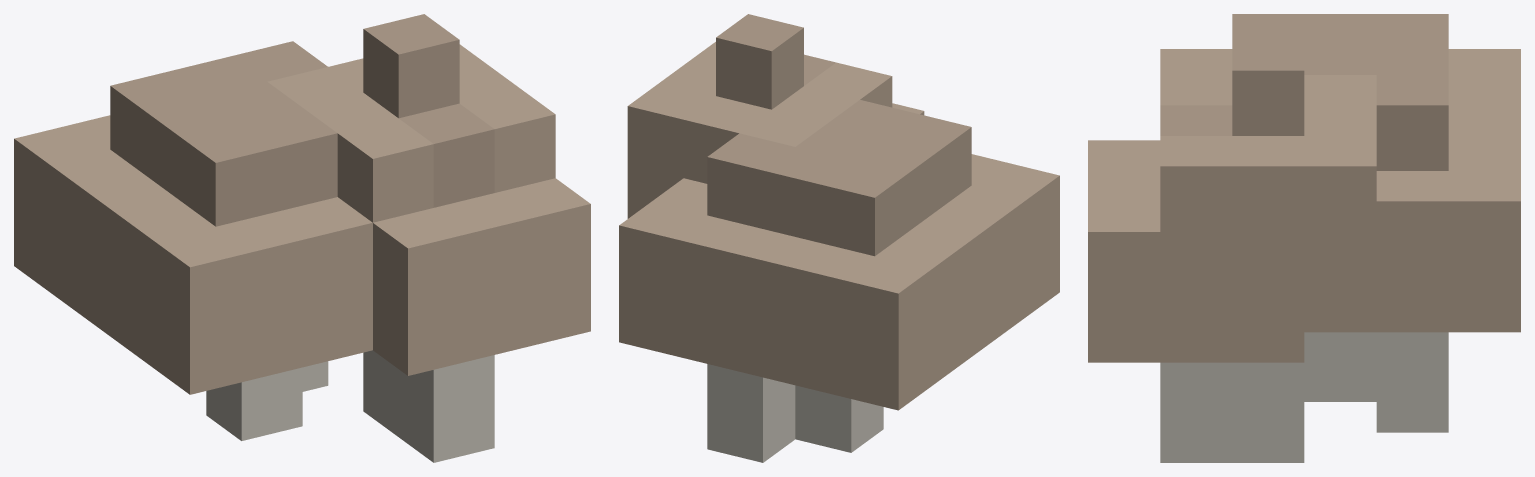
File: corro_de_setas_02.glb
3 renders of one model, left to right at view 1: azimuth 30°, elevation 25°; view 2: azimuth 150°, elevation 25°; view 3: azimuth 270°, elevation 25°, orthographic. The views are drawn at different scales.
Parts seen in each view (by area): view 1: corro_de_setas_02; view 2: corro_de_setas_02; view 3: corro_de_setas_02.
Boxes of the visible parts, bbox=[...] form: corro_de_setas_02: bbox=[14, 14, 590, 462]; corro_de_setas_02: bbox=[619, 14, 1059, 462]; corro_de_setas_02: bbox=[1088, 14, 1520, 462].
Bounding box in the file's own units: 0.6 × 0.6 × 0.6.
